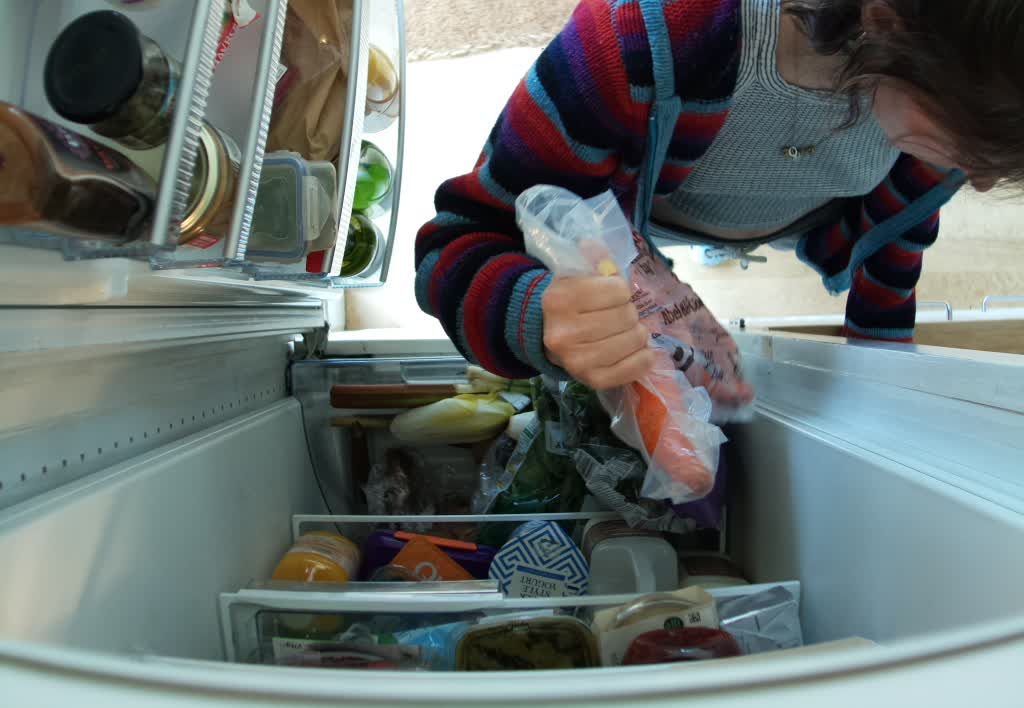carrot: (615, 222, 756, 494)
